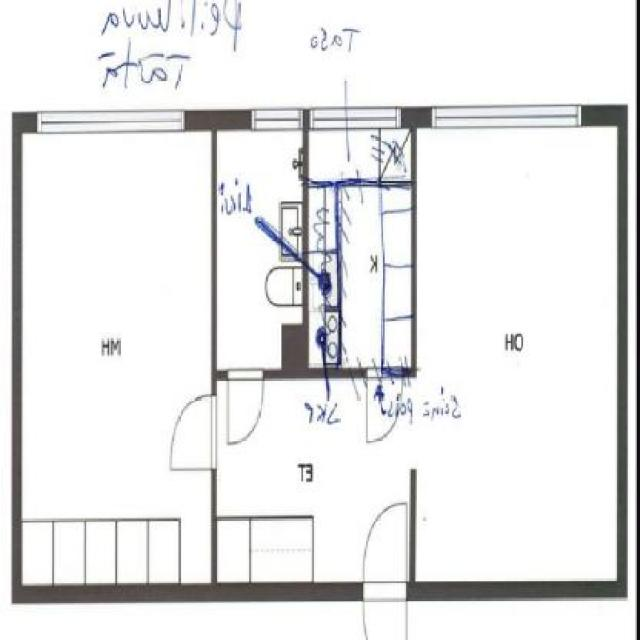door: (361, 500, 414, 640), (171, 392, 218, 477), (226, 369, 265, 449), (366, 365, 402, 443)
window: (431, 105, 580, 126), (39, 111, 184, 129), (309, 108, 400, 130), (252, 108, 303, 129)
zone: (217, 133, 617, 582), (22, 132, 210, 585), (308, 128, 410, 364), (217, 131, 301, 371)
